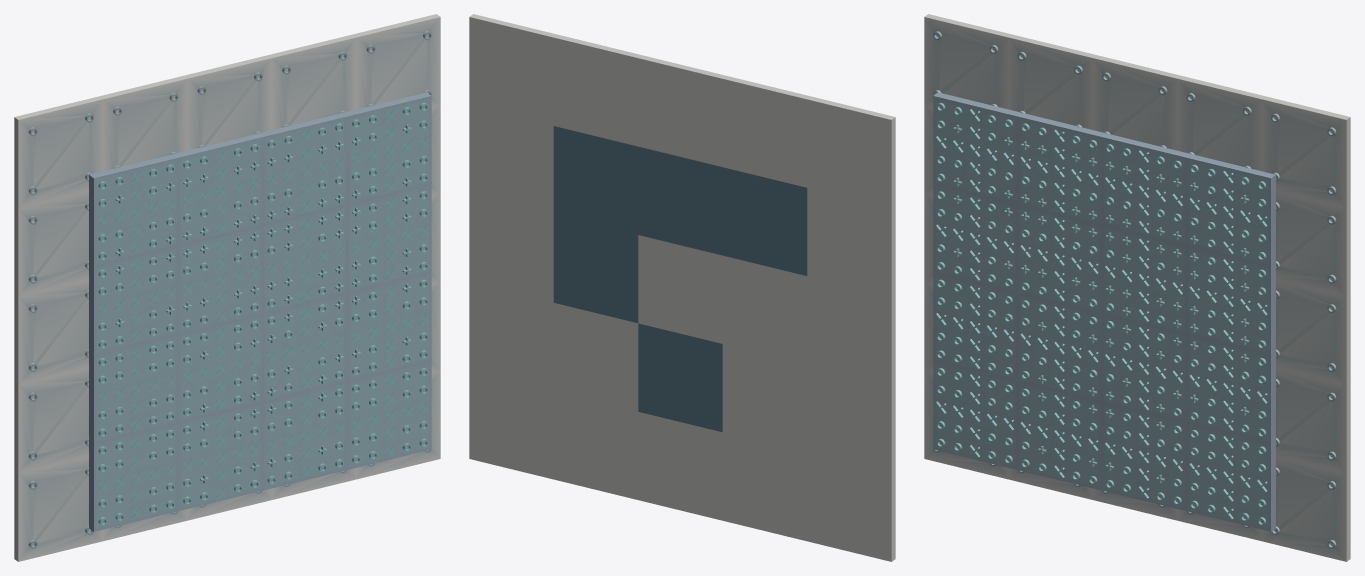
The model's file is glider-exploded.glb.
3 renders of one model, left to right at view 1: azimuth 30°, elevation 25°; view 2: azimuth 150°, elevation 25°; view 3: azimuth 330°, elevation 25°, orthographic.
Visible parts, largest first — view 1: blue-3-0, life-4-0, blue-2-0, blue-1-0, blue-0-0, blue-3-3, blue-3-2, blue-3-1, blue-0-1, blue-1-1, blue-2-1, blue-2-3 (+20 smaller); view 2: life-4-0, life-4-1, life-4-3, life-1-0, life-2-0, life-3-0, life-0-0, life-4-2, life-4-4, life-0-1, life-2-3, life-1-3 (+13 smaller); view 3: blue-3-3, life-4-4, blue-2-3, blue-1-3, blue-0-3, blue-3-0, blue-3-1, blue-3-2, blue-0-2, blue-1-2, blue-2-0, blue-2-2 (+20 smaller).
Part boxes in pixels (<box>): blue-3-0: <box>89,154,178,266</box>; life-4-0: <box>14,96,102,208</box>; blue-2-0: <box>89,246,178,354</box>; blue-1-0: <box>89,334,178,443</box>; blue-0-0: <box>89,423,178,531</box>; blue-3-3: <box>343,92,431,204</box>; blue-3-2: <box>258,113,347,225</box>; blue-3-1: <box>174,133,262,245</box>; blue-0-1: <box>178,402,262,511</box>; blue-1-1: <box>178,314,262,422</box>; blue-2-1: <box>178,225,262,334</box>; blue-2-3: <box>347,184,431,292</box>; life-4-0: <box>807,96,895,208</box>; life-4-1: <box>722,76,810,187</box>; life-4-3: <box>553,34,641,146</box>; life-1-0: <box>807,364,895,473</box>; life-2-0: <box>807,276,895,384</box>; life-3-0: <box>807,188,895,296</box>; life-0-0: <box>807,453,895,561</box>; life-4-2: <box>638,55,726,166</box>; life-4-4: <box>469,14,557,125</box>; life-0-1: <box>722,432,807,541</box>; life-2-3: <box>553,214,638,323</box>; life-1-3: <box>553,303,638,411</box>; blue-3-3: <box>1186,154,1275,266</box>; life-4-4: <box>1262,96,1350,208</box>; blue-2-3: <box>1186,246,1275,354</box>; blue-1-3: <box>1186,334,1275,443</box>; blue-0-3: <box>1186,423,1275,531</box>; blue-3-0: <box>933,92,1021,204</box>; blue-3-1: <box>1017,113,1106,225</box>; blue-3-2: <box>1102,133,1190,245</box>; blue-0-2: <box>1102,402,1186,511</box>; blue-1-2: <box>1102,314,1186,422</box>; blue-2-0: <box>933,184,1017,292</box>; blue-2-2: <box>1102,225,1186,334</box>.
Bounding box in the file's own units: 300 × 300 × 48.
